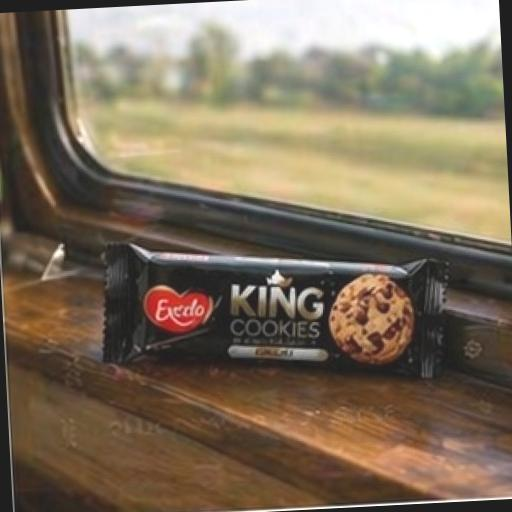king-cooking: (46, 166, 512, 420)
